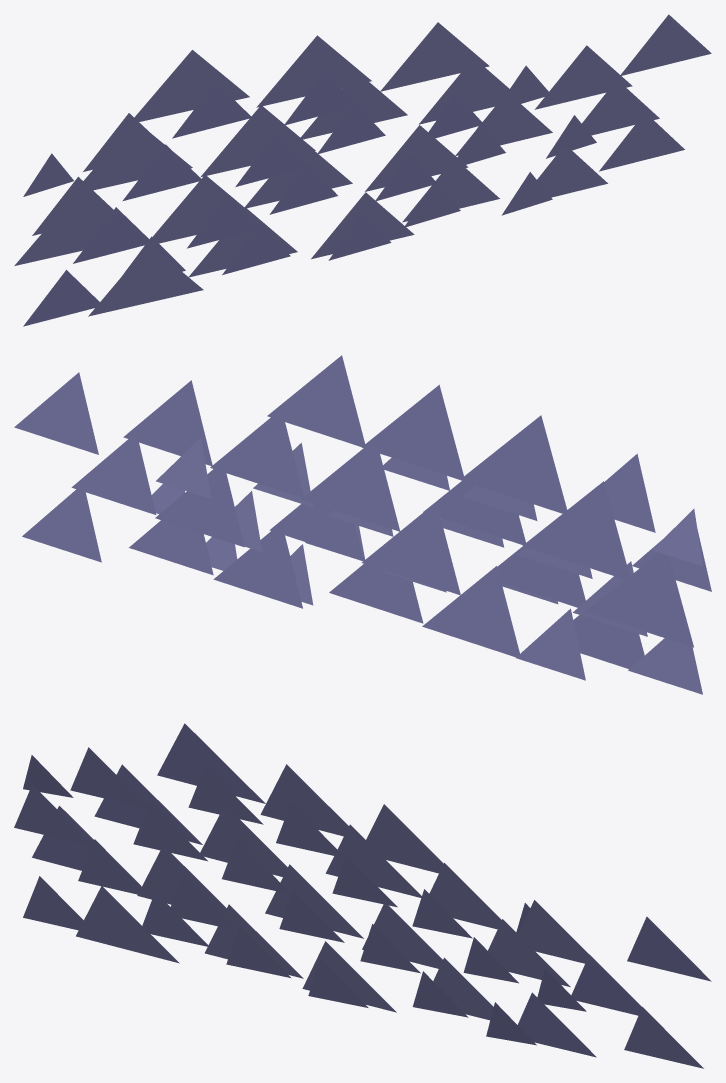
Rendered from prop_bulk_gen_0443_lod0.gltf.
The picture shows the model from 3 angles, top to bottom: view 1: azimuth 30°, elevation 25°; view 2: azimuth 150°, elevation 25°; view 3: azimuth 330°, elevation 25°; orthographic projection.
Visible parts, largest first — view 1: prop_bulk_gen_0443_lod0; view 2: prop_bulk_gen_0443_lod0; view 3: prop_bulk_gen_0443_lod0.
Part boxes in pixels (x1,y1,x2,y2): prop_bulk_gen_0443_lod0: (14, 14, 711, 326); prop_bulk_gen_0443_lod0: (14, 355, 711, 694); prop_bulk_gen_0443_lod0: (14, 723, 711, 1068).
Size of the model in its own units: 0.805 by 0.2657 by 0.0817.
